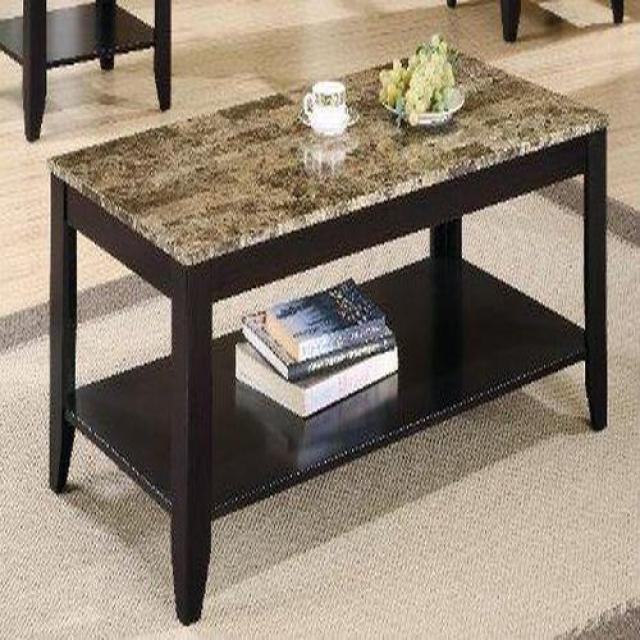table: (49, 40, 609, 627)
